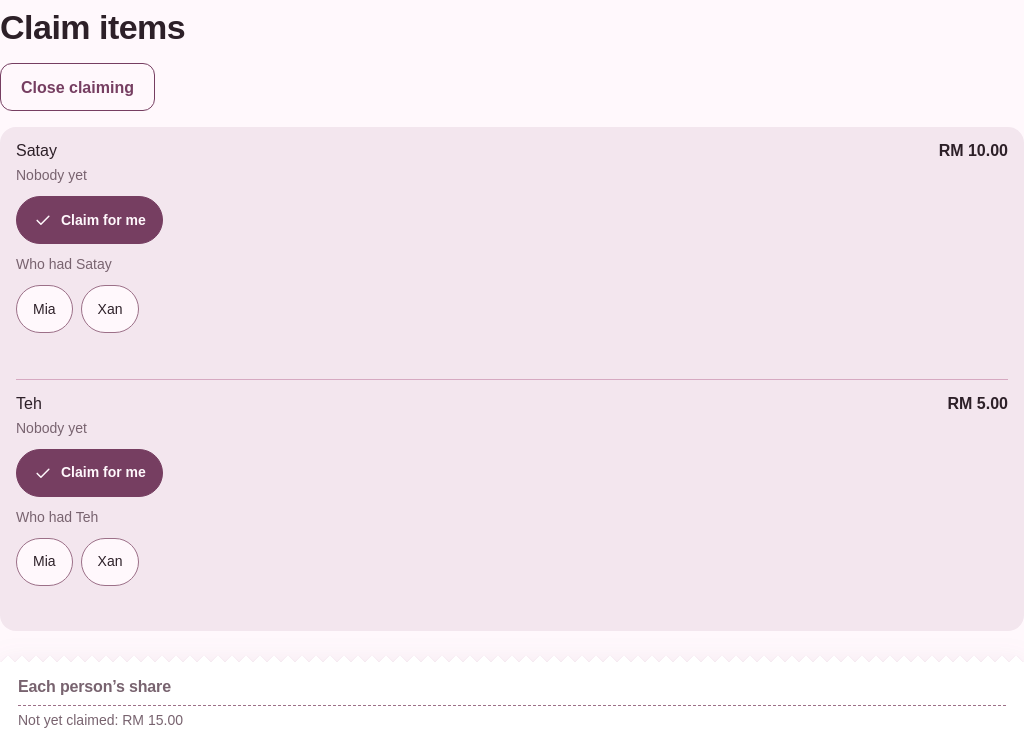
Test: ClaimItemsRoute › keeps one item’s save error visible when another item saves fine
The width and height of the screenshot is (1024, 754).
Click the button "Xan" below "Who had Satay".
click(110, 309)  # box [81, 285, 140, 333]
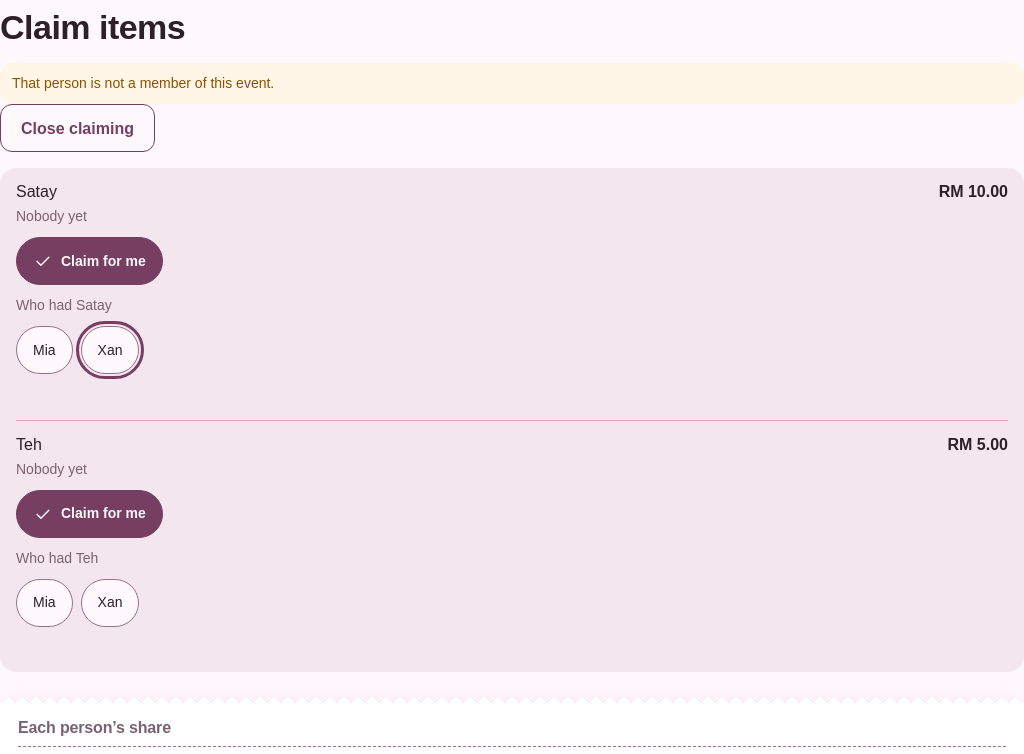
Now the message "That person is not a member of this event." is shown, box [0, 63, 1023, 104]
Click the button "Xan" below "Who had Teh".
click(110, 603)  # box [81, 579, 140, 627]
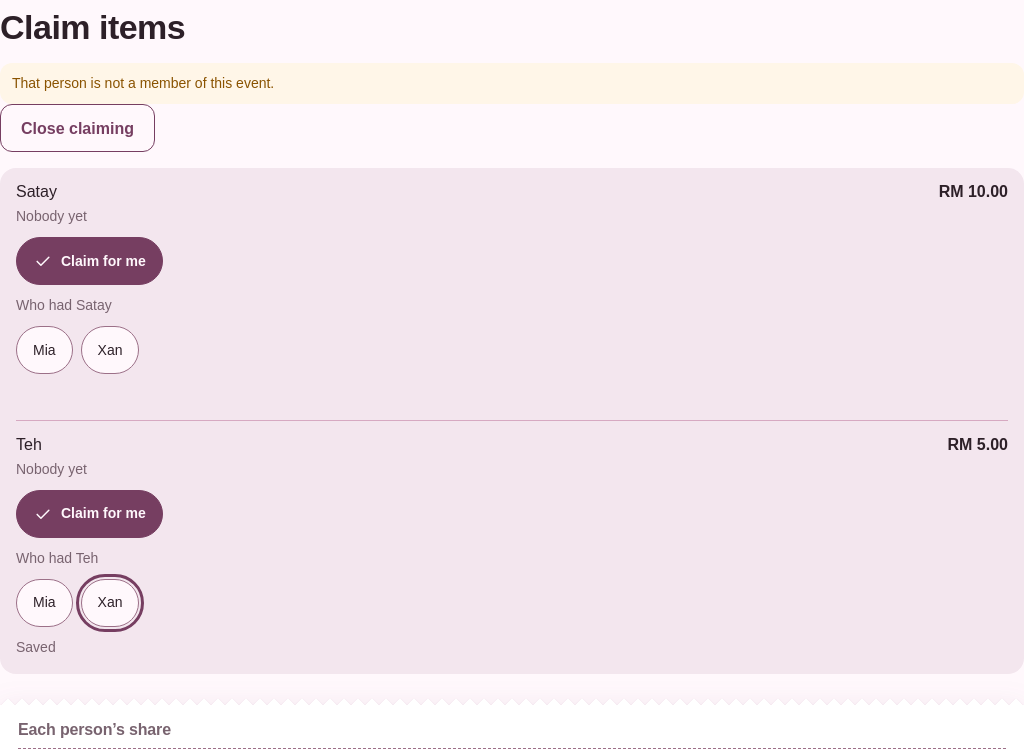
Now the message "That person is not a member of this event." is shown, box [0, 63, 1023, 104]
Now the text "Saved" is shown, box [16, 637, 56, 658]
